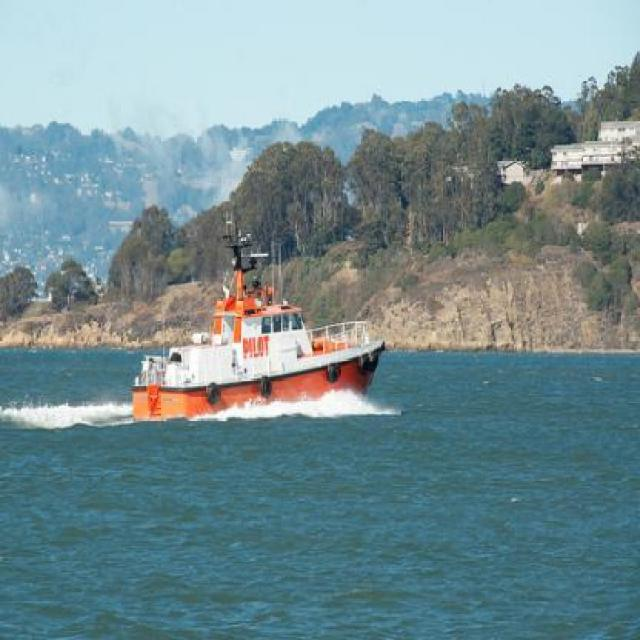ship: (128, 205, 386, 420)
